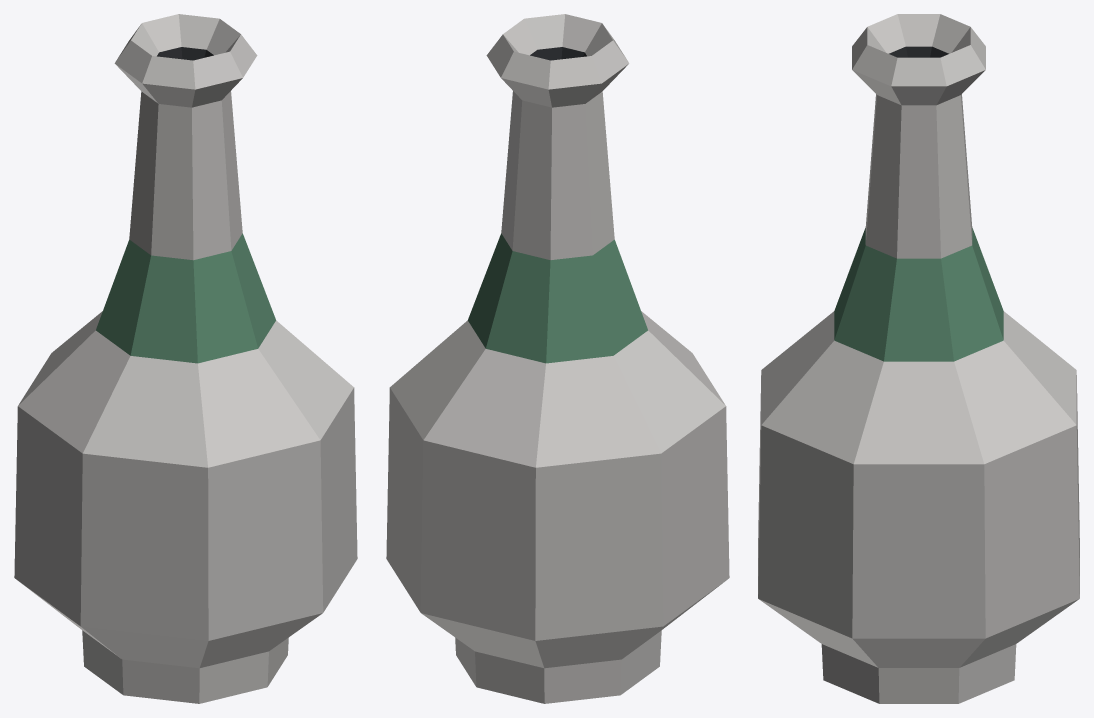
Rendered from SM_Prop_Vase_07.fbx.
3 views of the same model, side by side, from view 1: azimuth 30°, elevation 25°; view 2: azimuth 150°, elevation 25°; view 3: azimuth 270°, elevation 25° (orthographic).
Visible parts, largest first — view 1: SM_Prop_Vase_07; view 2: SM_Prop_Vase_07; view 3: SM_Prop_Vase_07.
Boxes of the visible parts, x1=… form: SM_Prop_Vase_07: x1=14, y1=14, x2=357, y2=703; SM_Prop_Vase_07: x1=386, y1=14, x2=729, y2=703; SM_Prop_Vase_07: x1=758, y1=14, x2=1079, y2=703.
Size of the model in its own units: 38.99 by 83.91 by 38.99.
